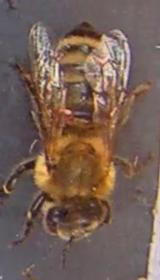varroa_mite: (48, 104, 74, 126)
